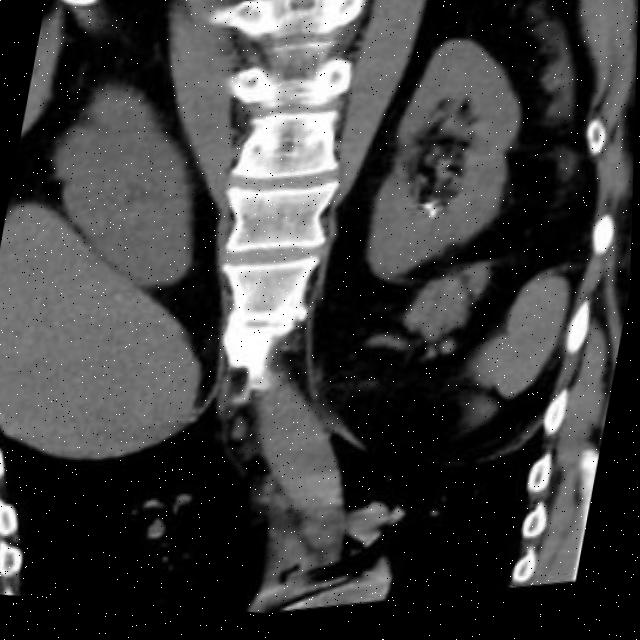Tas_Var: (429, 215, 444, 232), (421, 209, 439, 222)
